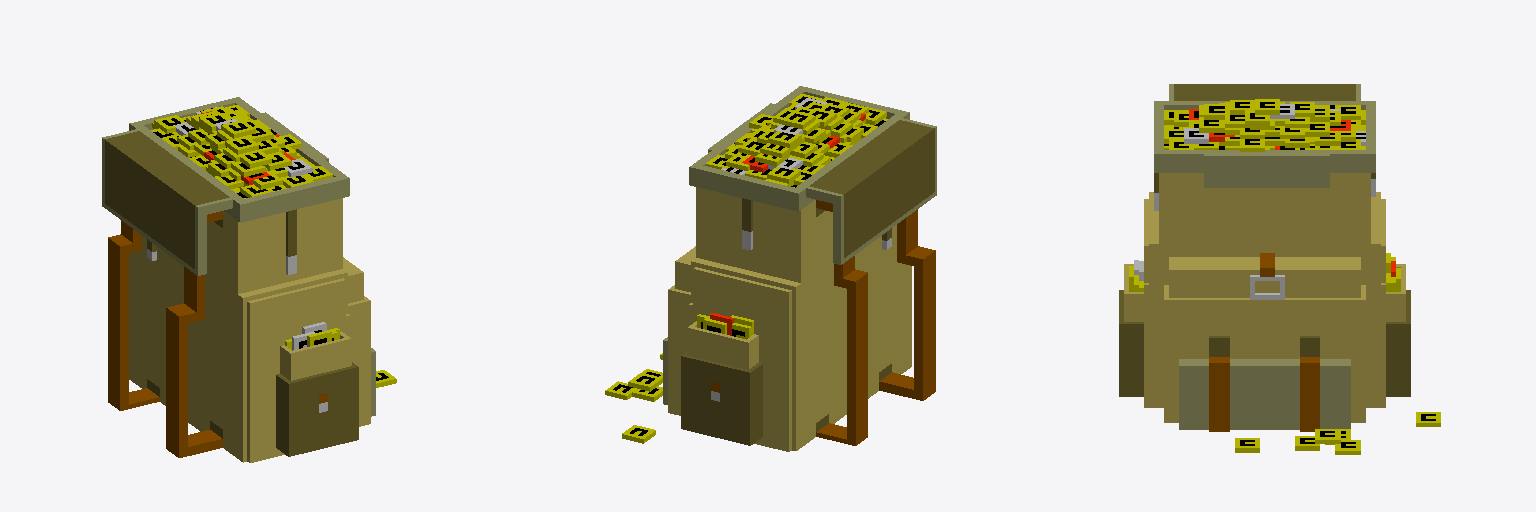
3 views of the same model, side by side, from view 1: azimuth 30°, elevation 25°; view 2: azimuth 150°, elevation 25°; view 3: azimuth 270°, elevation 25° (orthographic).
Bounding box in the file's own units: 56 × 61 × 64.
Materials: 1 (1 with a texture image).